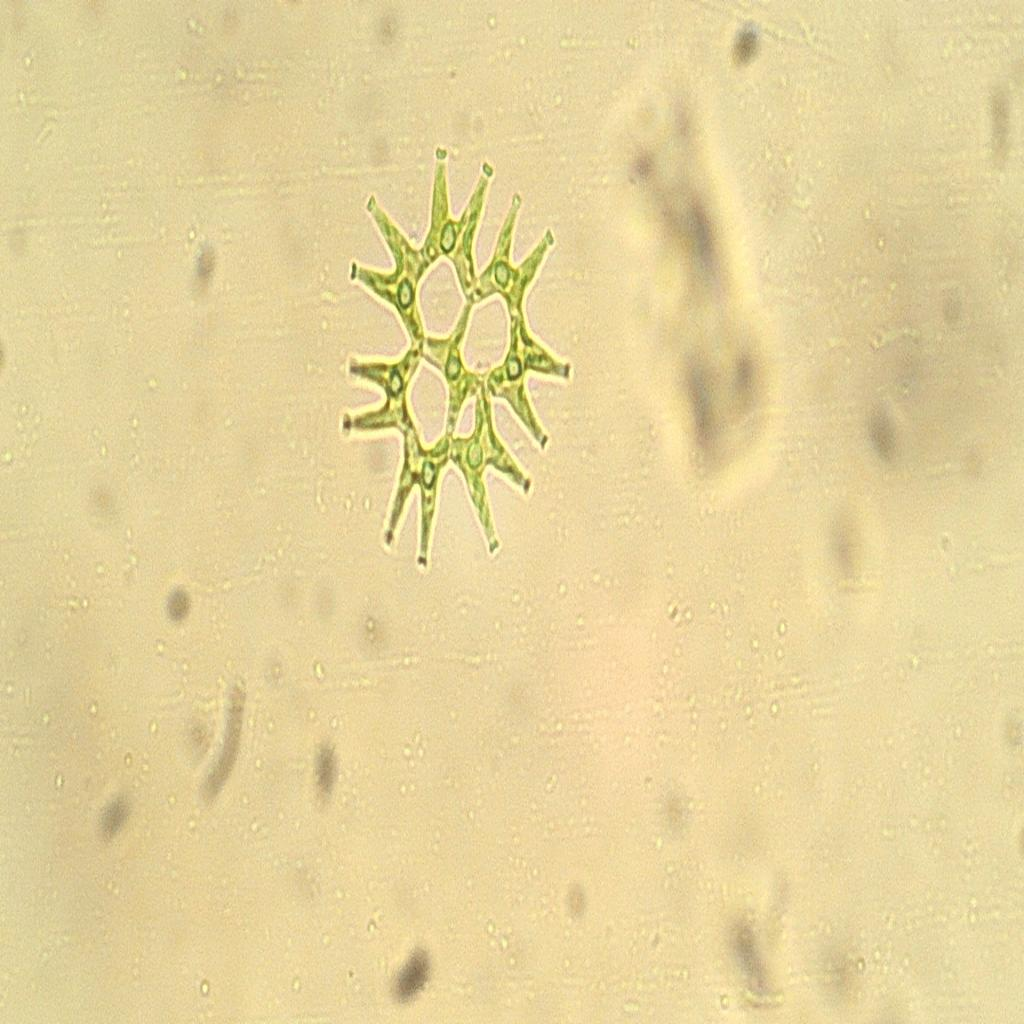Pediastrum_CTH: (322, 110, 577, 594)
